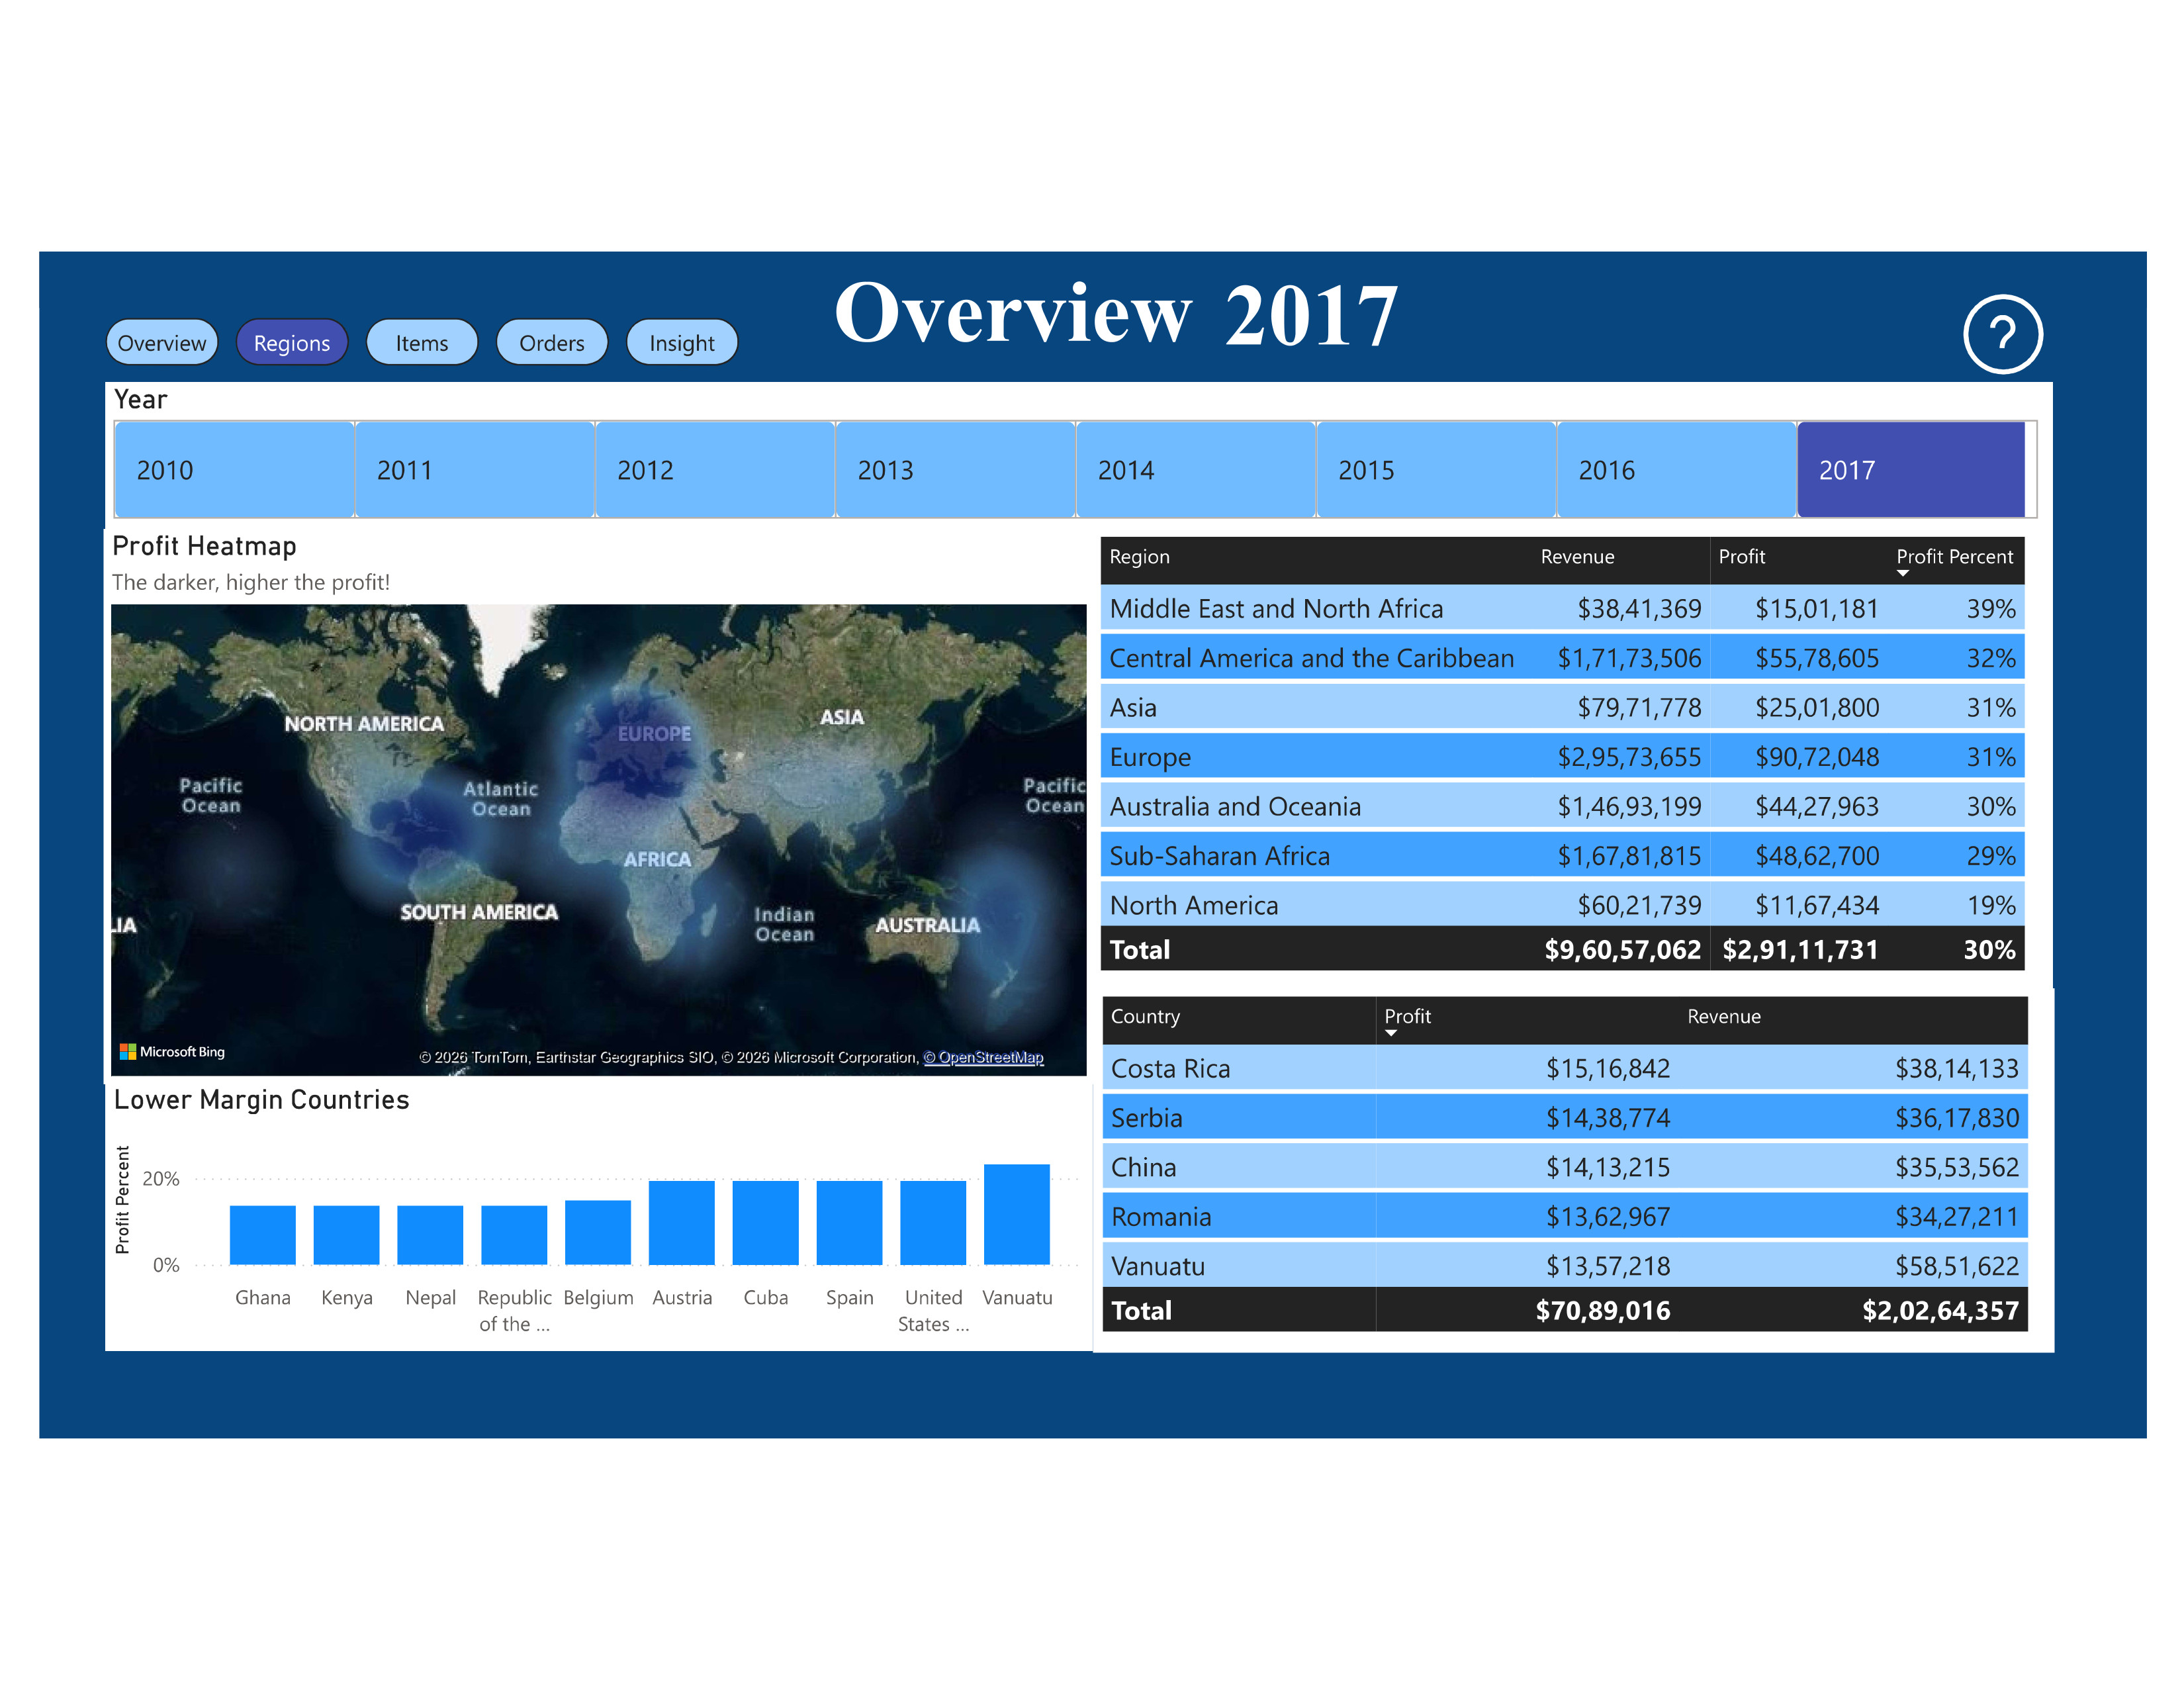

This screenshot's page, from the dashboard's own definition file:
{"tool":"powerbi","page":{"name":"Regions","canvas":[1280,720],"ordinal":1},"visuals":[{"type":"textbox","box":[457.1,0,269.1,100.9],"z":0},{"type":"advancedSlicerVisual","fields":{"Values":["Date.Year"]},"box":[38.1,78.6,1185.7,90.5],"z":1000},{"type":"pageNavigator","box":[40.5,40.5,385.7,28.6],"z":3000},{"type":"card","fields":{"Values":["Records.This.Year"]},"box":[688.6,0,168.2,67.3],"z":4000},{"type":"map","title":"Profit Heatmap","fields":{"Category":["Country.Country"],"Size":["Records.This.Profit"]},"box":[39,167.6,601.7,337.6],"z":5000},{"type":"tableEx","title":"Revenue by Region","fields":{"Values":["Country.Region","Records.This.Revenue","Records.This.Profit","Records.Profit Percent"]},"box":[638.1,166.7,585.7,281],"z":6000},{"type":"tableEx","title":"Revenue by Region","fields":{"Values":["Country.Country","Records.This.Profit","Records.This.Revenue"]},"box":[639.9,446.6,584,221.2],"z":7000},{"type":"columnChart","title":"Lower Margin Countries","fields":{"Category":["Country.Country"],"Y":["Records.Profit Percent"]},"box":[39.6,504.4,600.3,162.6],"z":8000},{"type":"image","box":[0,0,1280,720],"z":9000},{"type":"actionButton","box":[1162.5,22.5,62.5,55],"z":10000}]}

Visuals, with their boxes on the page's 1280x720 design canvas (x1, y1, x2, y2). These are canvas units, not pixel positions in the 2184x1688 screenshot, which may show the page scaled, cropped or inside an application window:
textbox: x1=457 y1=0 x2=726 y2=101
advancedSlicerVisual - Date.Year: x1=38 y1=79 x2=1224 y2=169
pageNavigator: x1=40 y1=40 x2=426 y2=69
card - Records.This.Year: x1=689 y1=0 x2=857 y2=67
"Profit Heatmap" map: x1=39 y1=168 x2=641 y2=505
"Revenue by Region" tableEx: x1=638 y1=167 x2=1224 y2=448
"Revenue by Region" tableEx: x1=640 y1=447 x2=1224 y2=668
"Lower Margin Countries" columnChart: x1=40 y1=504 x2=640 y2=667
image: x1=0 y1=0 x2=1280 y2=720
actionButton: x1=1162 y1=22 x2=1225 y2=78
